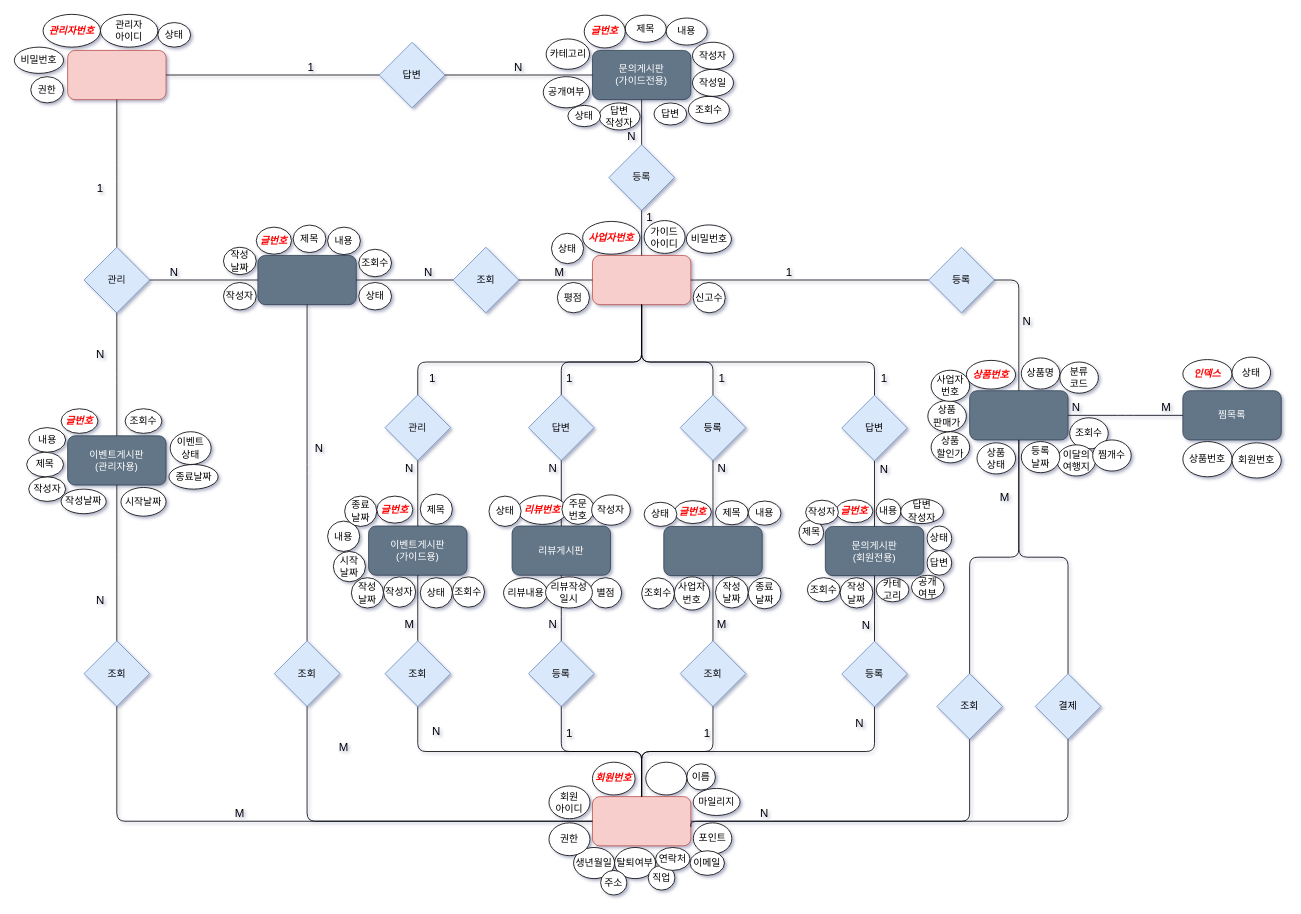
The diagram is 1301 pixels wide and 914 high, and some of its shapes have lost their labels. Each missing label, with the centre of its shape:
가이드: point (641, 280)
공지게시판: point (306, 280)
관리자: point (116, 75)
비밀 번호: point (666, 778)
상품: point (1018, 415)
홍보게시판: point (712, 551)
회원: point (641, 821)
